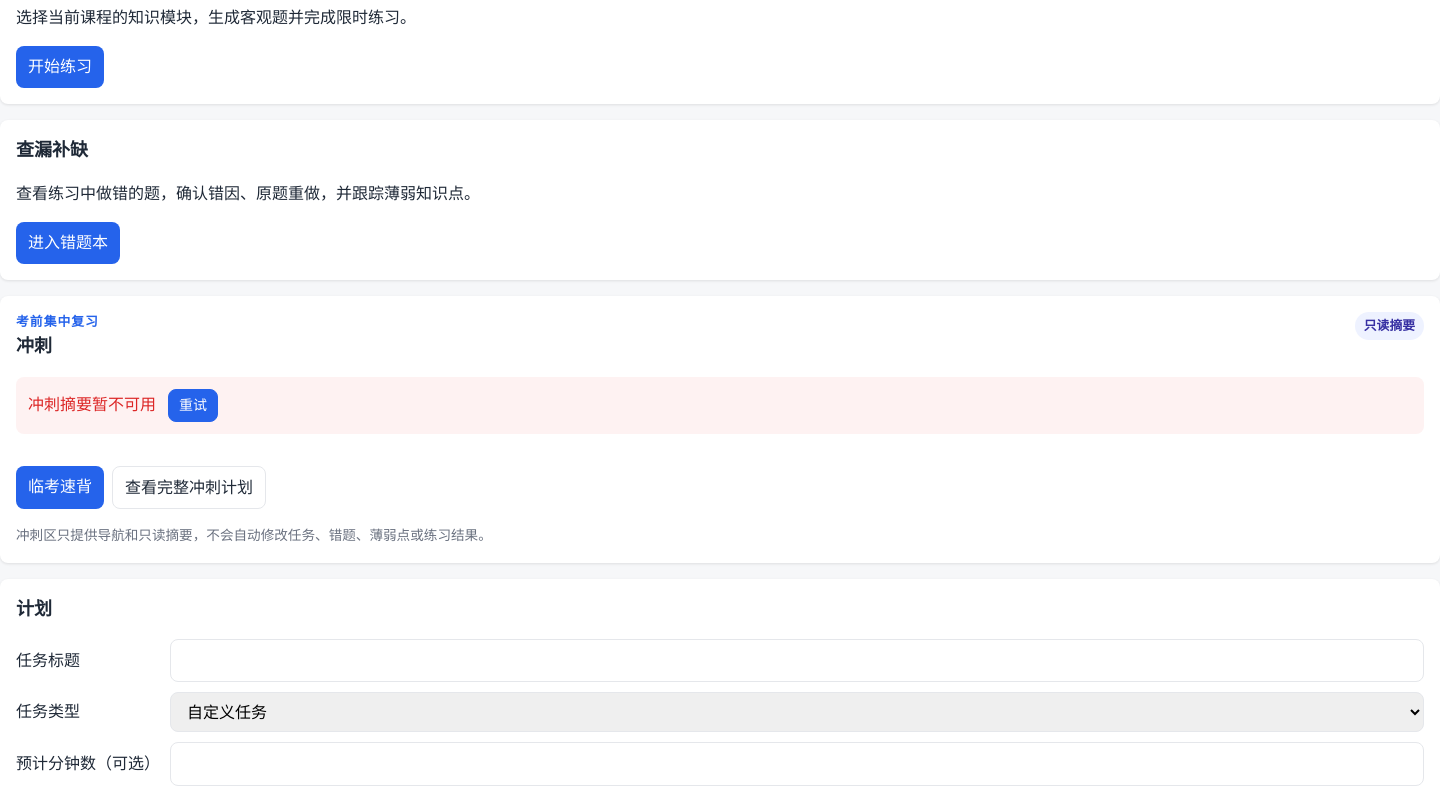
it: ExamWorkbenchPage 考试项目闭环 › 冲刺摘要失败时只在局部显示错误，并可重试恢复
(page scrolled)
Expected: the element with test id "workbench-cram" shows "冲刺摘要暂不可用", [28, 394, 156, 414]
Click the button "重试". click: (193, 405)
box: [168, 389, 218, 422]
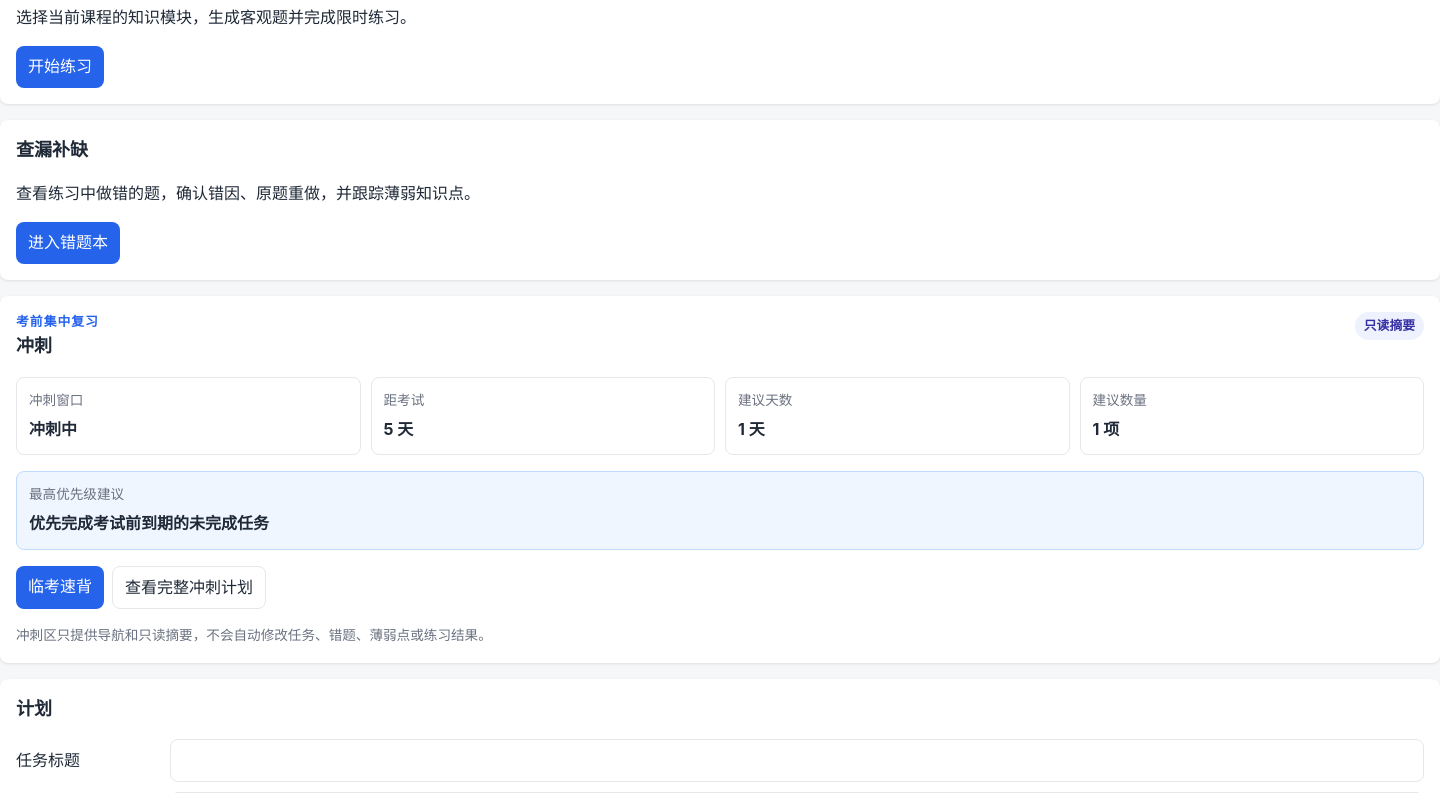
Now the element with test id "workbench-cram" shows "优先完成考试前到期的未完成任务", box [29, 513, 269, 533]
